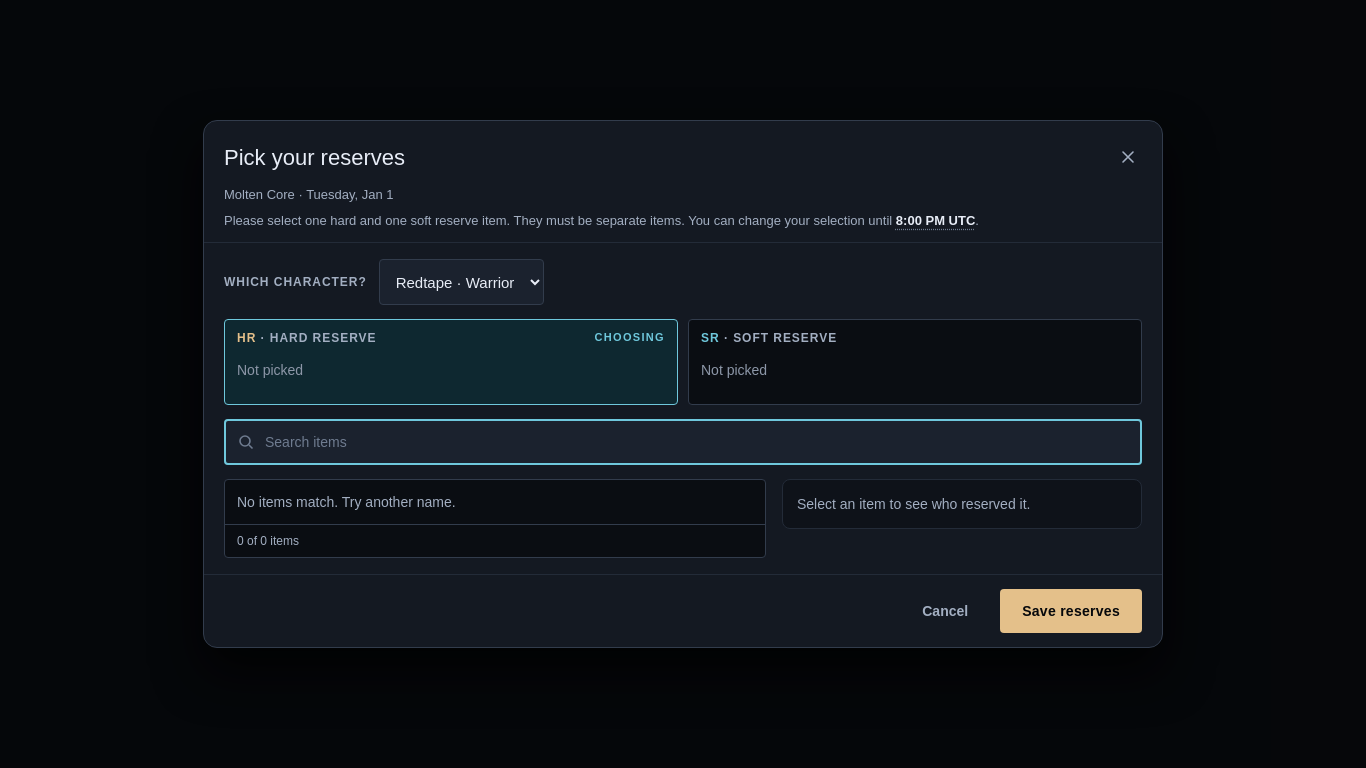
Test: ReserveWindow character choice › restores the saved character and makes it read-only on a first-step lock refusal
The image size is (1366, 768).
Select "Triplicate · Mage" in the dropdown labelled "Which character?" at (461, 282), box [379, 259, 544, 305]
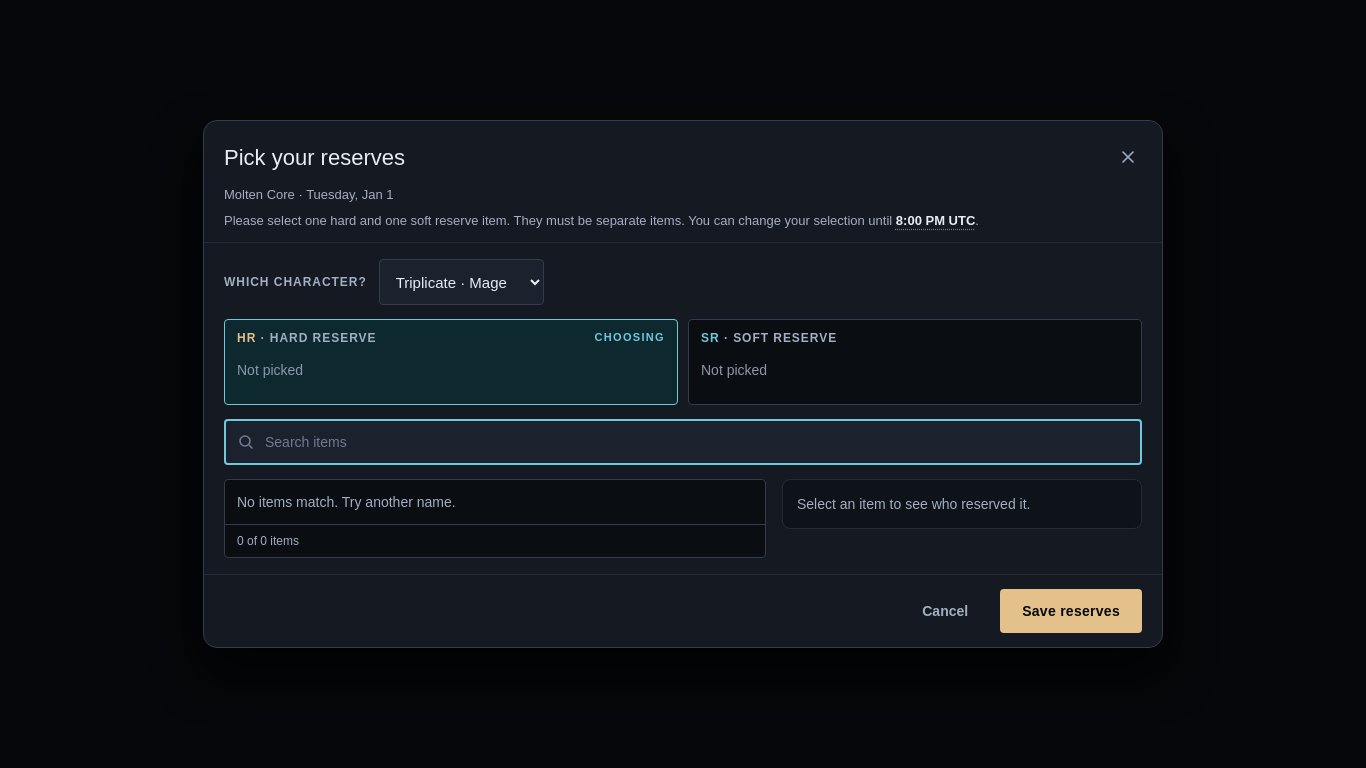
Submit the form, box [224, 259, 1142, 558]
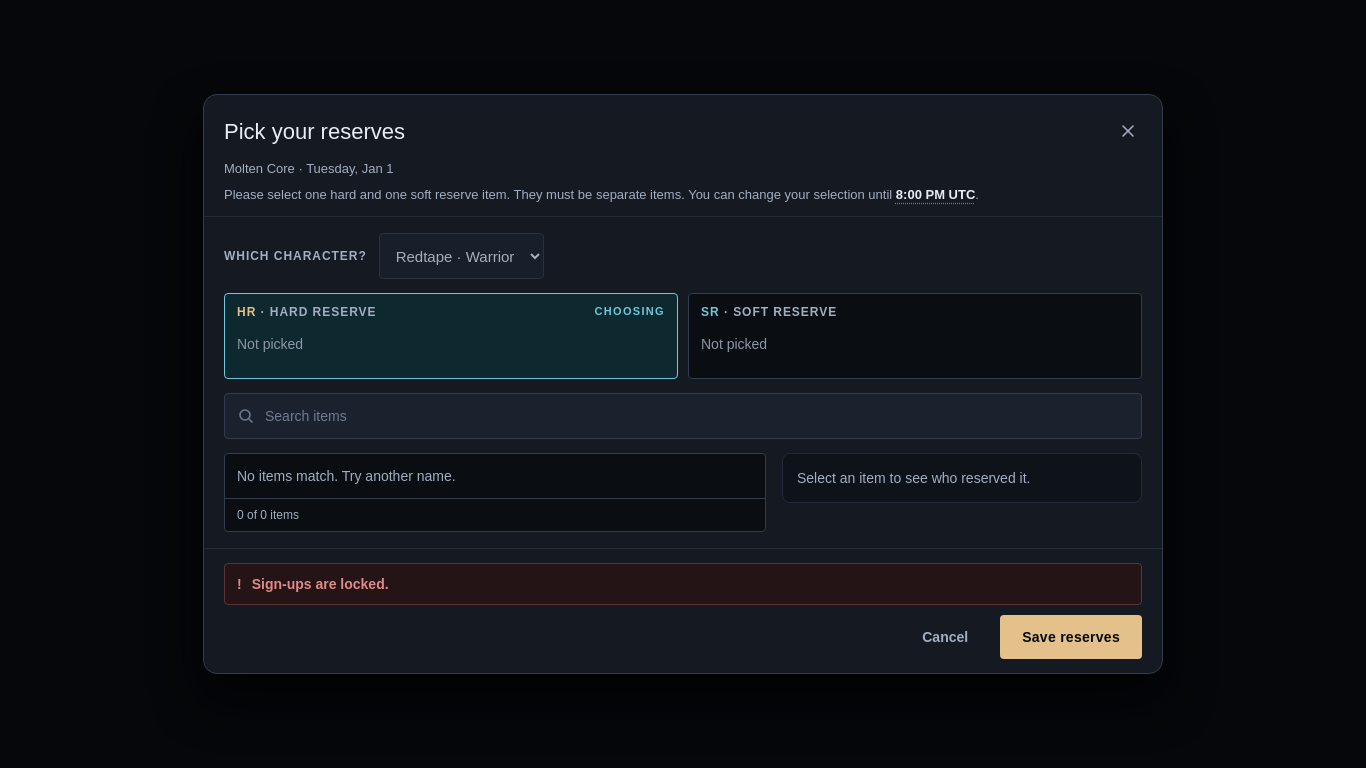
Expected: the dropdown labelled "Which character?" is disabled, [379, 233, 544, 279]
Expected: the text "Sign-ups are locked." is shown, [252, 576, 389, 592]
